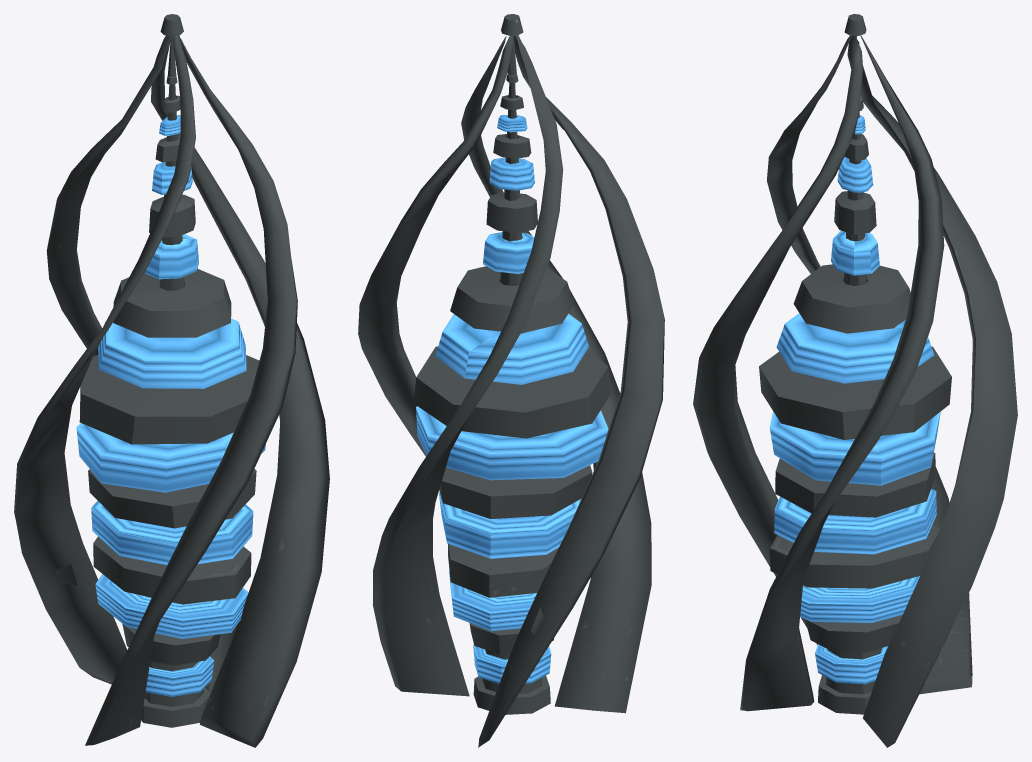
Rendered from BLD1310020.fbx.
The picture shows the model from 3 angles, left to right: view 1: azimuth 30°, elevation 25°; view 2: azimuth 150°, elevation 25°; view 3: azimuth 270°, elevation 25°; orthographic projection.
Parts seen in each view (by area): view 1: smBLD1310020; view 2: smBLD1310020; view 3: smBLD1310020.
Boxes of the visible parts, box(x1,y1,x2,y2) form: smBLD1310020: box(14, 14, 329, 747); smBLD1310020: box(358, 14, 664, 747); smBLD1310020: box(693, 14, 1017, 747).
Size of the model in its own units: 2024 by 4707 by 2033.
Materials: 1 (1 with a texture image).
